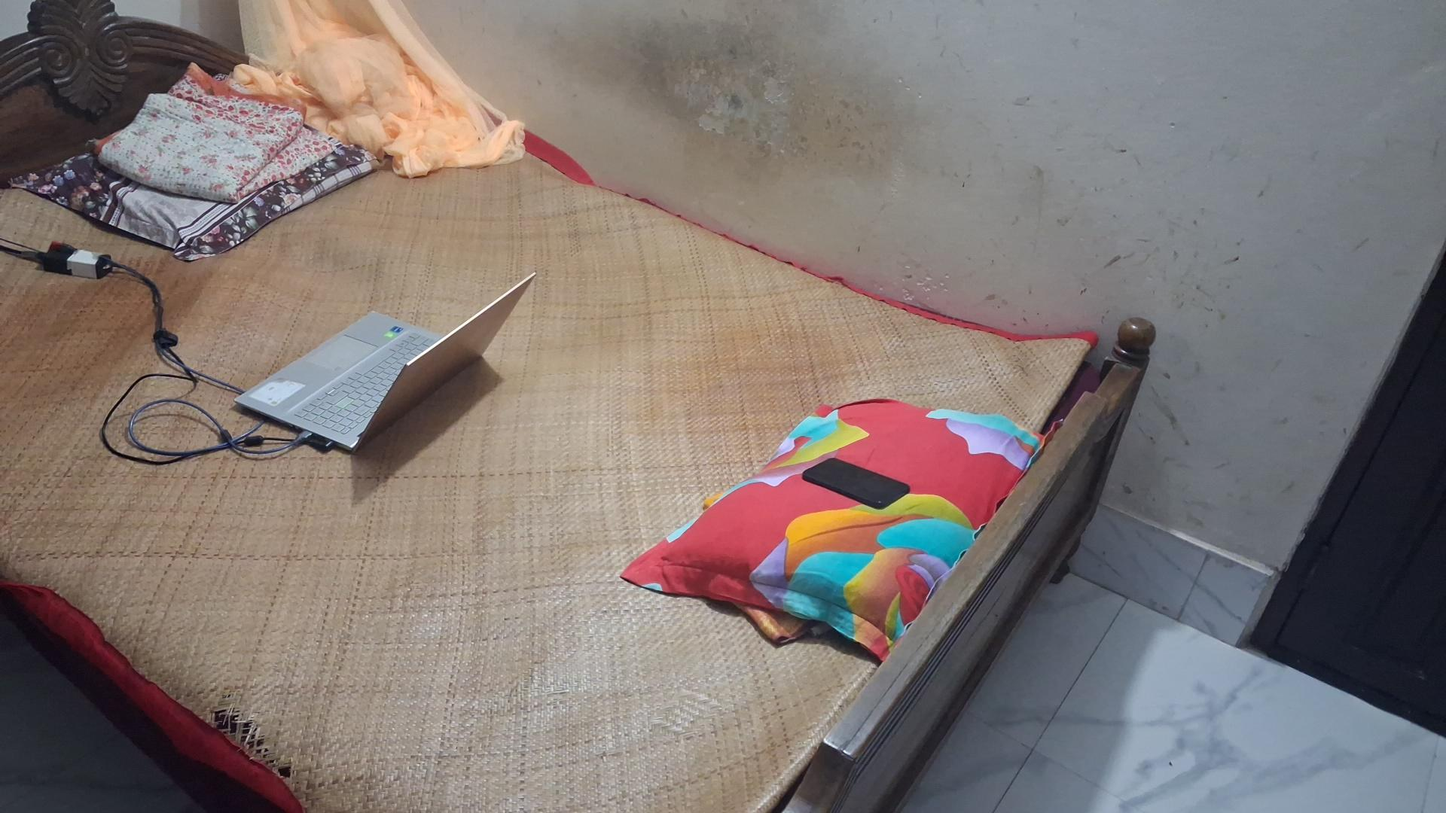Blanket: (103, 69, 345, 206)
Laptop: (233, 273, 536, 452)
Phone: (801, 457, 912, 511)
Pillow: (619, 394, 1052, 658)
